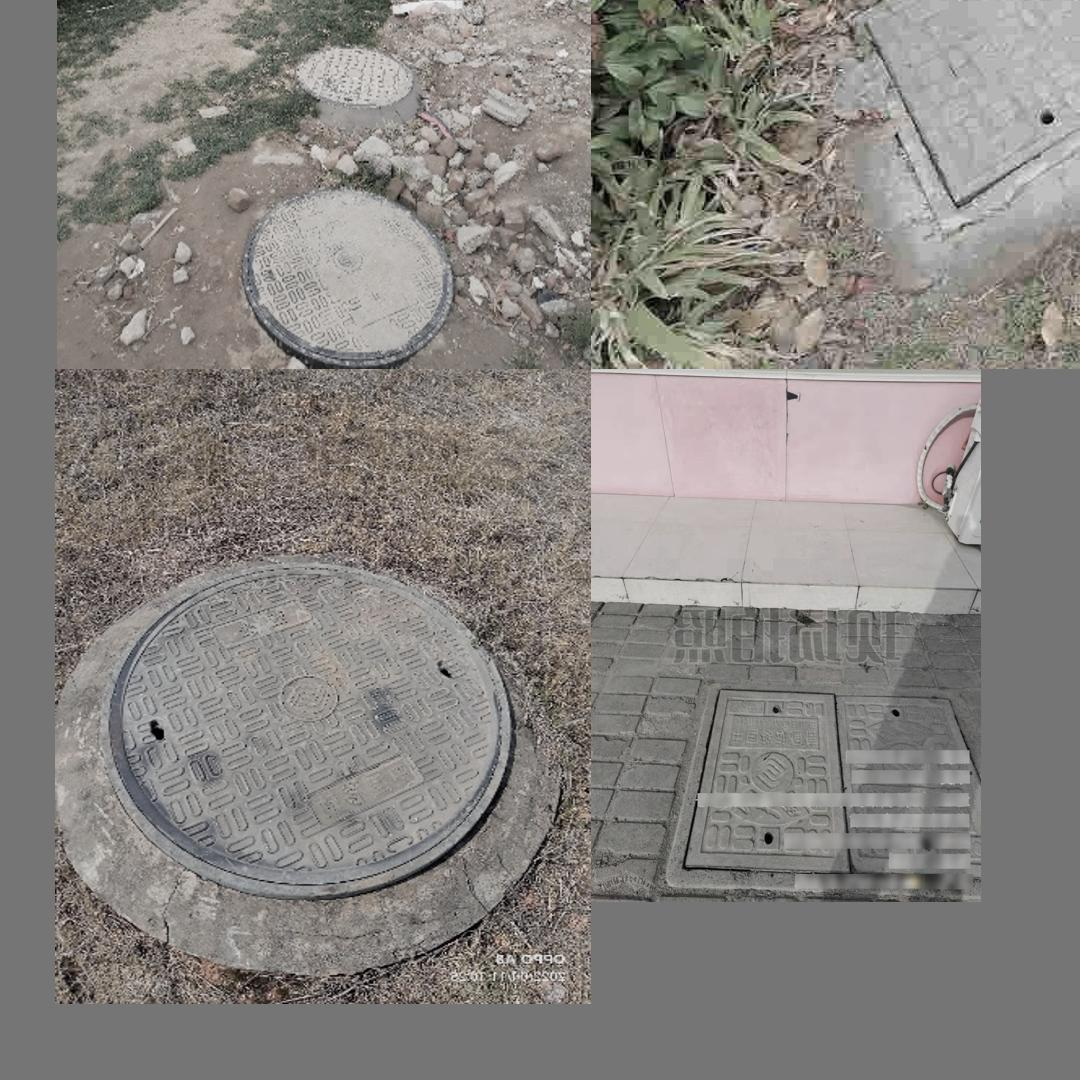good: (97, 563, 514, 900), (665, 683, 980, 890), (833, 0, 1080, 182), (243, 186, 453, 369), (291, 44, 414, 107)
